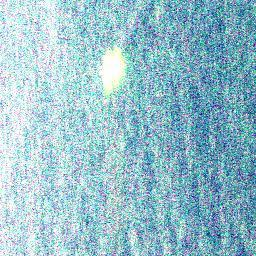Ship: (95, 45, 129, 94)
